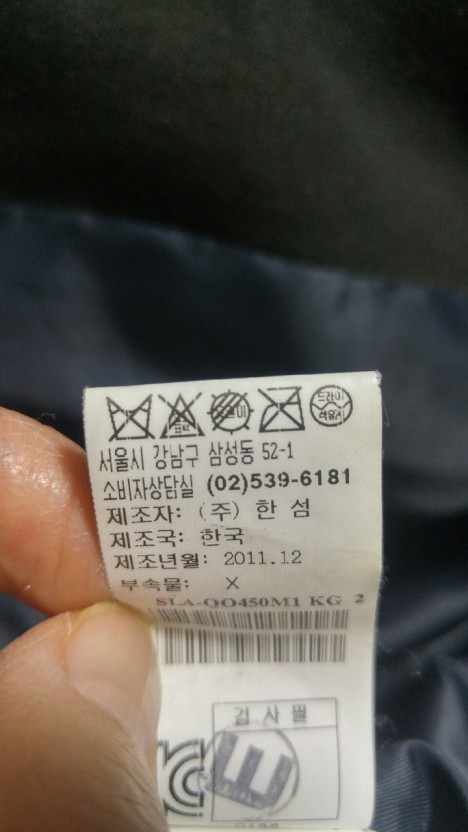KR_dry_clean_petroleum: (309, 383, 353, 430)
KR_hang_dry_in_shade: (208, 390, 254, 434)
KR_no_chlorine_bleach: (158, 392, 205, 440)
KR_no_iron: (258, 386, 306, 433)
KR_no_wash: (106, 395, 154, 443)
